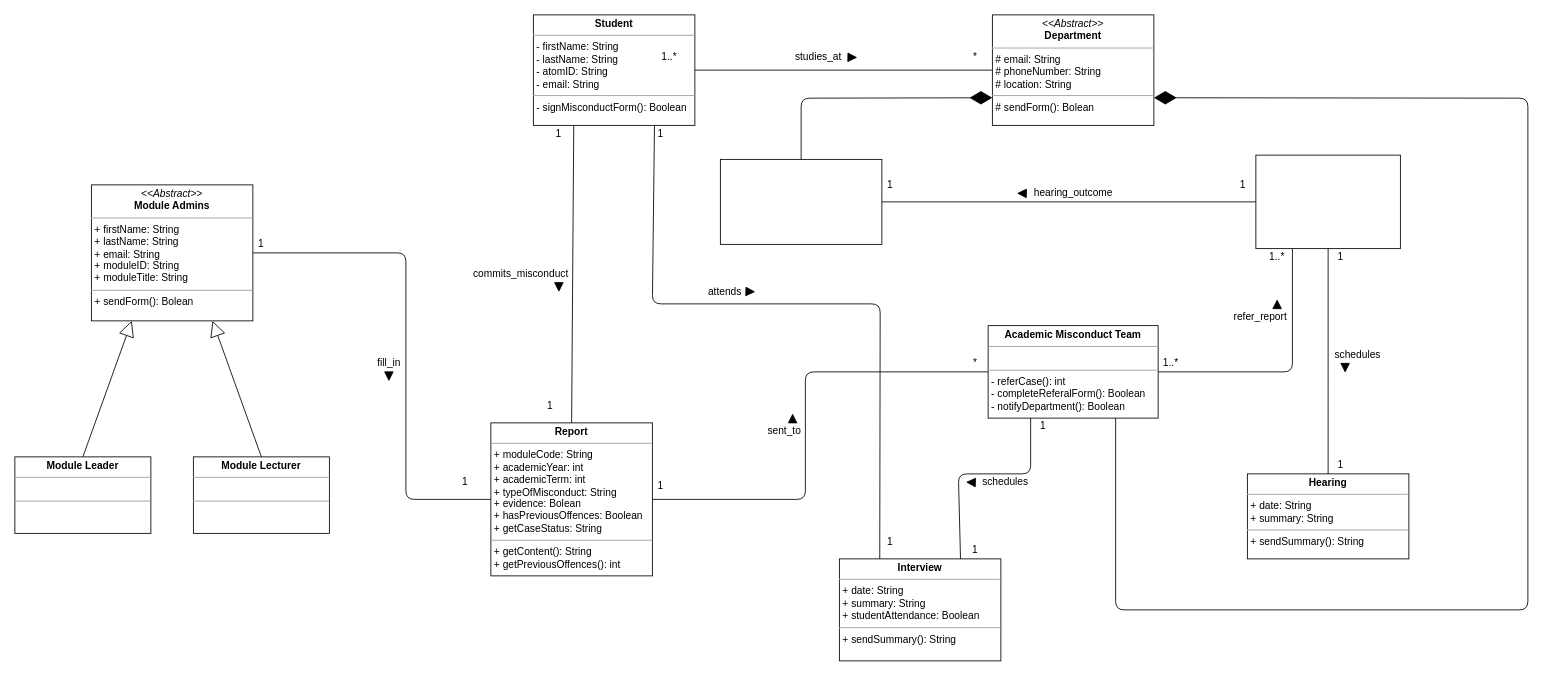
This 1565x676 diagram has some shape labels left out. The shapes that lost their labels are listed below. From the top down, each one's centre as x and y in pixels, then its label:
(x=801, y=201): Professional Services Team - checkForm(): Boolean - registerOutcome(): Boolean
(x=1327, y=201): SCO - scheduleHearing(): Boolean - sendOutcome(): String
